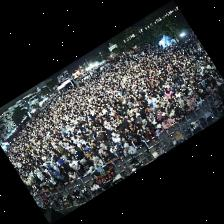person: (131, 136, 151, 155), (67, 159, 84, 175), (70, 150, 85, 164), (145, 127, 157, 144), (42, 172, 55, 187), (103, 150, 116, 164), (174, 108, 187, 122), (85, 132, 98, 145), (147, 94, 157, 110), (162, 117, 174, 129), (123, 144, 135, 156), (49, 168, 62, 179), (84, 161, 94, 175), (92, 157, 103, 169), (134, 107, 145, 119), (88, 149, 99, 161), (134, 124, 144, 137), (148, 114, 159, 125), (186, 94, 194, 109), (54, 178, 66, 188), (114, 128, 126, 138), (68, 172, 78, 184), (125, 127, 134, 140), (95, 131, 105, 142), (111, 133, 120, 145), (200, 89, 209, 101), (121, 137, 131, 147), (57, 147, 67, 157), (100, 144, 109, 155), (175, 97, 184, 108), (52, 158, 63, 167), (116, 145, 123, 159), (157, 107, 167, 116), (118, 119, 128, 128), (103, 121, 112, 131), (50, 164, 59, 174), (155, 124, 163, 135), (34, 170, 42, 181), (60, 173, 69, 182), (206, 87, 215, 96), (110, 143, 116, 156), (165, 89, 172, 100), (194, 95, 201, 106), (180, 93, 186, 105), (165, 100, 173, 109), (40, 184, 49, 192), (216, 77, 223, 87), (166, 109, 173, 119), (141, 119, 146, 132), (100, 139, 109, 146), (36, 186, 43, 195), (174, 89, 180, 97)
